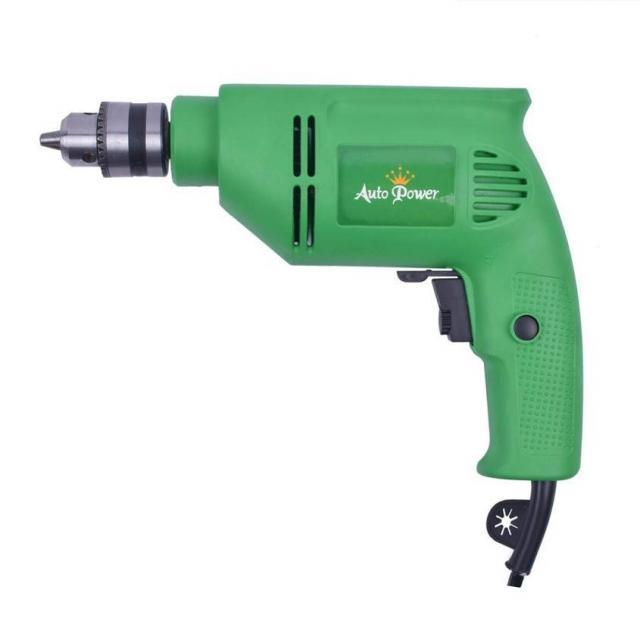drill: (38, 84, 584, 589)
